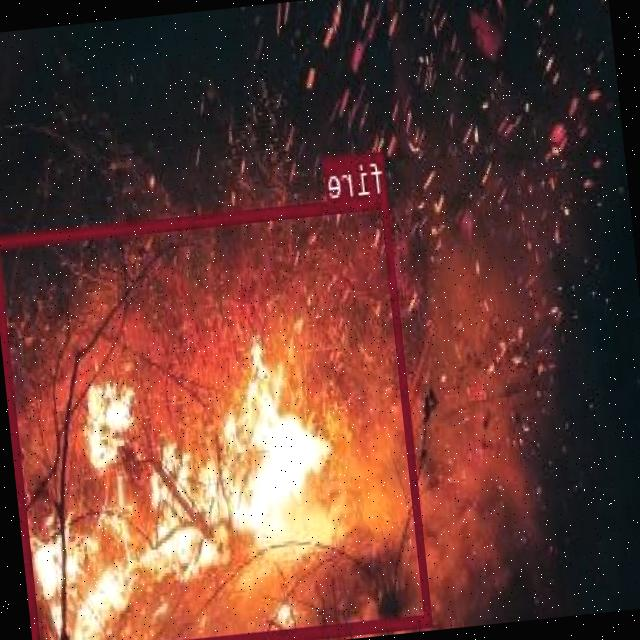fire: (0, 194, 433, 640)
